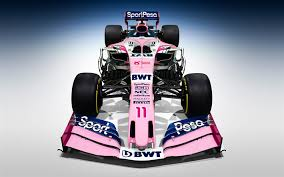FormulaOneCar: (59, 7, 227, 164)
